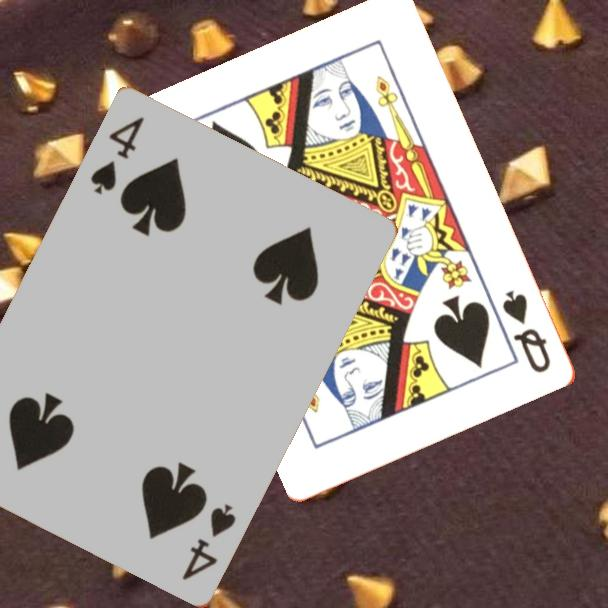s04: (87, 114, 148, 199), (179, 500, 239, 584)
s12: (499, 286, 554, 376)
